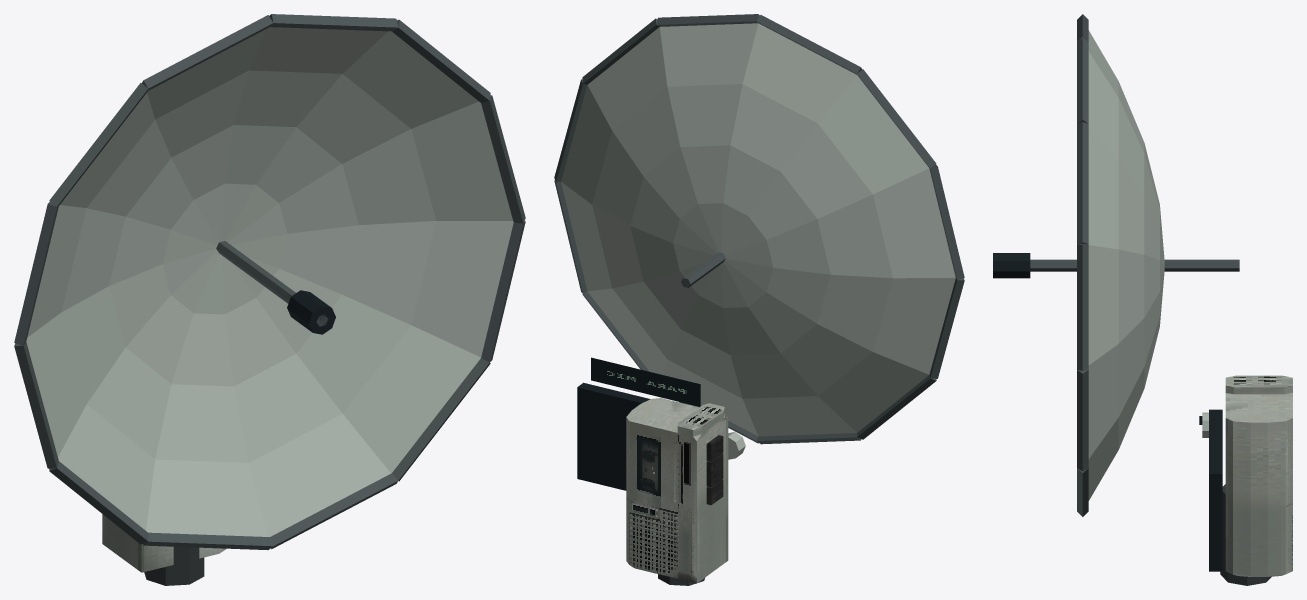
File: blender_parabolic_microphone_3.glb
3 renders of one model, left to right at view 1: azimuth 30°, elevation 25°; view 2: azimuth 150°, elevation 25°; view 3: azimuth 270°, elevation 25°, orthographic. The views are drawn at different scales.
Visible parts, largest first — view 1: blender_parabolic_microphone_3; view 2: blender_parabolic_microphone_3; view 3: blender_parabolic_microphone_3.
Boxes of the visible parts, x1,y1,x2,y2 form: blender_parabolic_microphone_3: (14, 14, 525, 585); blender_parabolic_microphone_3: (554, 14, 964, 585); blender_parabolic_microphone_3: (993, 14, 1292, 585).
Size of the model in its own units: 0.3377 by 0.3969 by 0.2005.
1 material, 1 textured.
